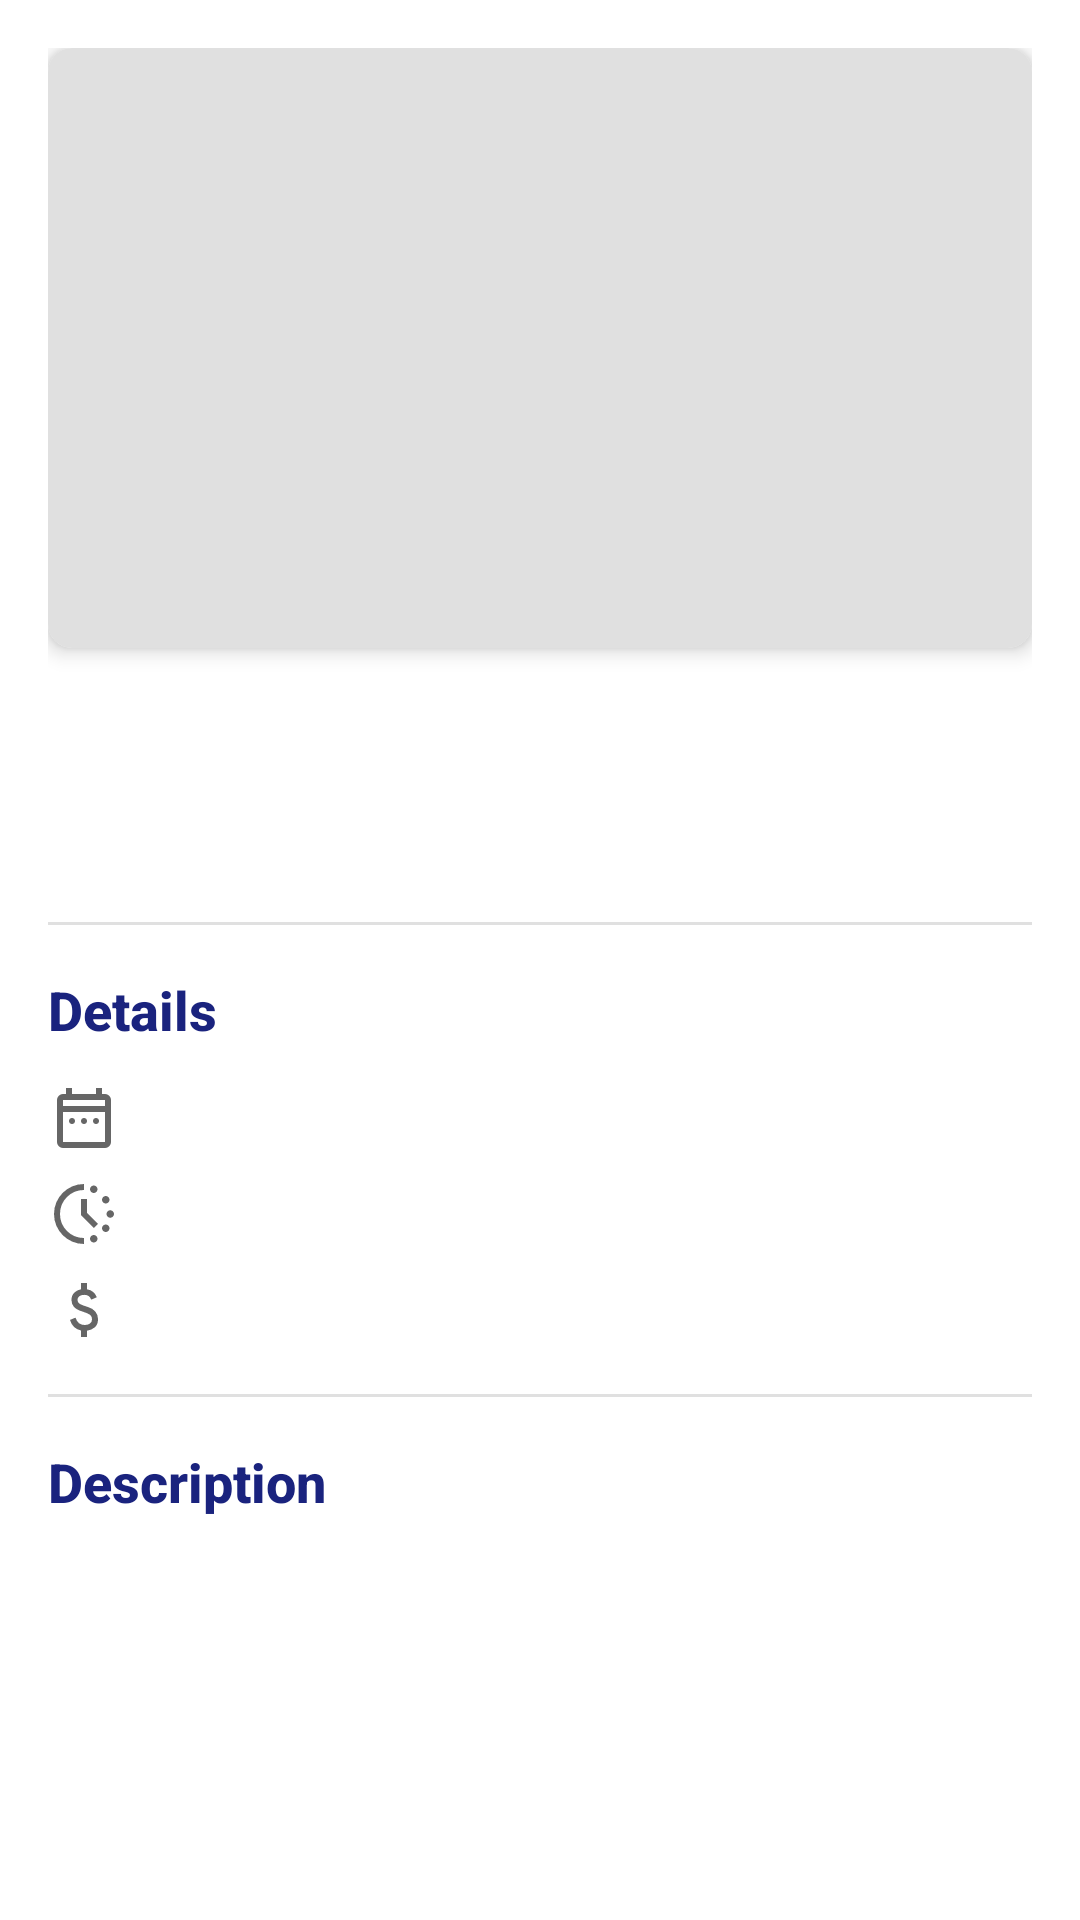

Named icons in this screenshot (1080x1920) and their bounding boxes, bbox=[x1, y1, x2, y2]:
clock: bbox=[54, 1184, 114, 1244]
cost: bbox=[70, 1283, 98, 1337]
